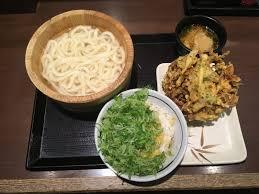kakiage: (167, 50, 237, 122)
kamaage: (26, 10, 132, 97)
